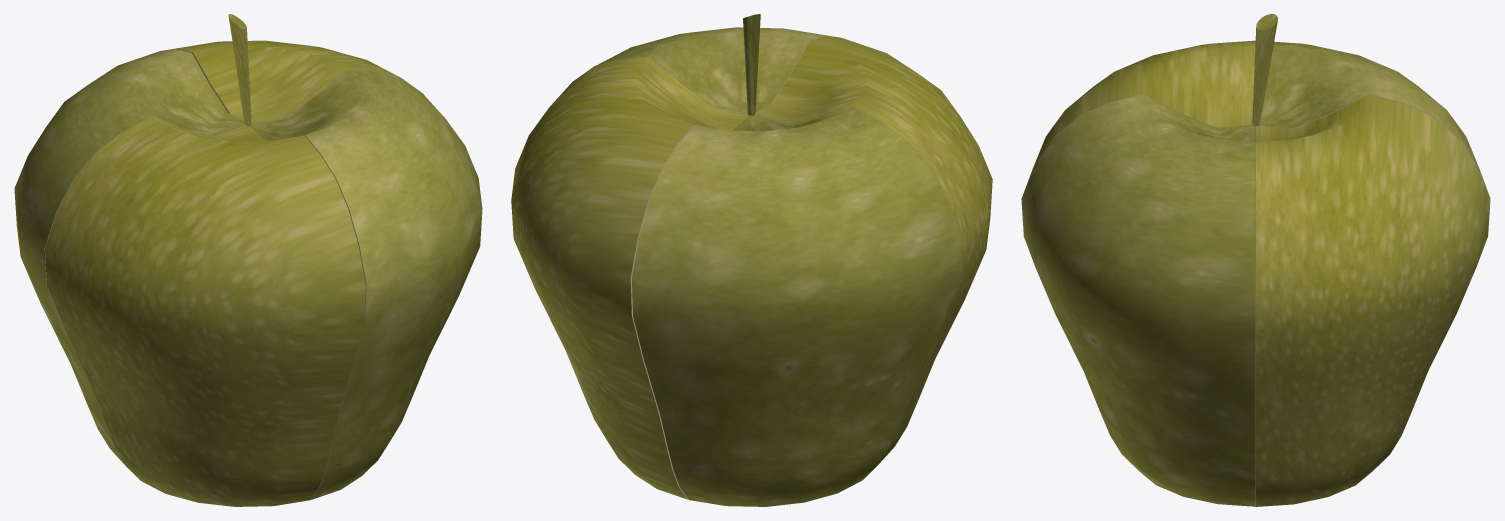
The model's file is AppleGreenSlice2.fbx.
The picture shows the model from 3 angles, left to right: view 1: azimuth 30°, elevation 25°; view 2: azimuth 150°, elevation 25°; view 3: azimuth 270°, elevation 25°; orthographic projection. The views are drawn at different scales.
Parts seen in each view (by area): view 1: polySurface12, polySurface9, polySurface10, polySurface11; view 2: polySurface10, polySurface11, polySurface12, polySurface9; view 3: polySurface11, polySurface9, polySurface12, polySurface10.
Part boxes in pixels (left/top/right/bottom): polySurface12: left=45, top=118, right=365, bottom=506; polySurface9: left=250, top=70, right=482, bottom=500; polySurface10: left=14, top=48, right=245, bottom=480; polySurface11: left=175, top=14, right=423, bottom=126; polySurface10: left=632, top=107, right=961, bottom=506; polySurface11: left=511, top=14, right=760, bottom=499; polySurface12: left=755, top=35, right=992, bottom=463; polySurface9: left=598, top=27, right=841, bottom=112; polySurface11: left=1252, top=14, right=1490, bottom=506; polySurface9: left=1021, top=94, right=1255, bottom=506; polySurface12: left=1023, top=40, right=1255, bottom=193; polySurface10: left=1259, top=41, right=1490, bottom=235.
Bounding box in the file's own units: 1.9 × 1.97 × 1.89.
